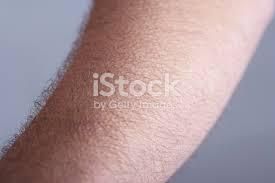Goosebumps: (0, 0, 271, 182)
